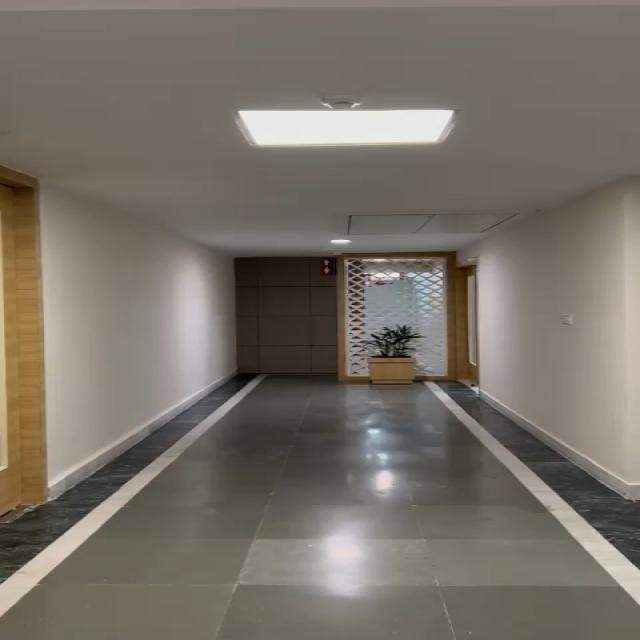floor: (217, 385, 470, 640)
furniture: (347, 318, 432, 394)
wall: (46, 175, 240, 395), (486, 234, 640, 407)
